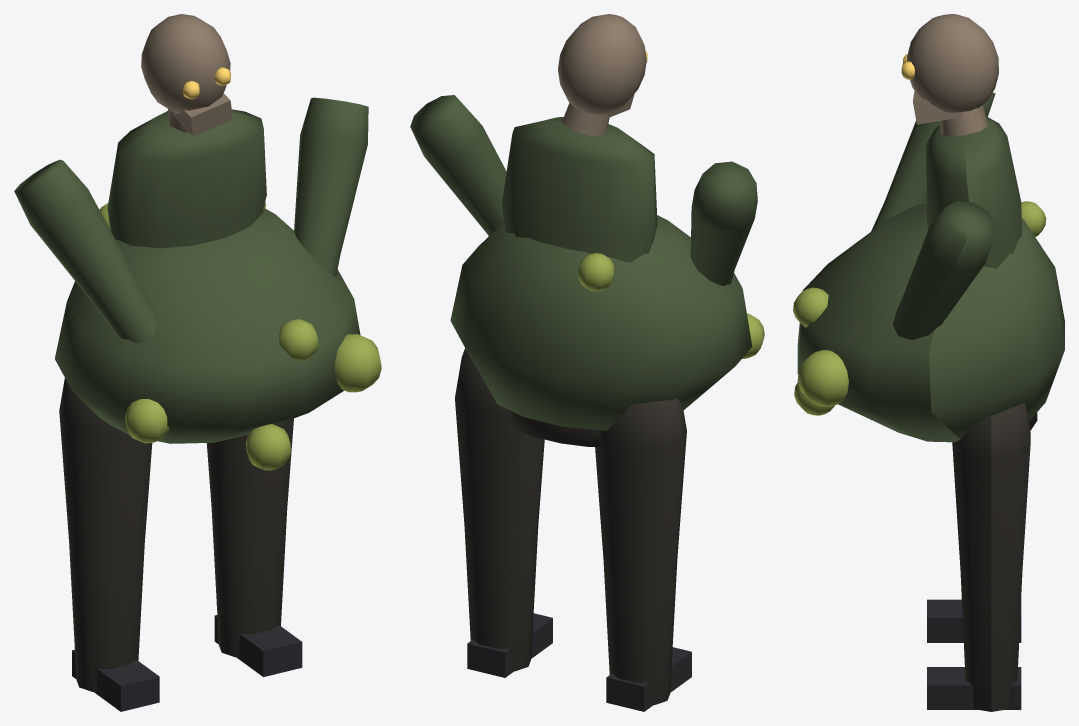
Rendered from husk_bloater.glb.
3 views of the same model, side by side, from view 1: azimuth 30°, elevation 25°; view 2: azimuth 150°, elevation 25°; view 3: azimuth 270°, elevation 25° (orthographic). The views are drawn at different scales.
Visible parts, largest first — view 1: husk_bloater; view 2: husk_bloater; view 3: husk_bloater.
Boxes of the visible parts, box(x1,y1,x2,y2) form: husk_bloater: box(14, 14, 381, 711); husk_bloater: box(410, 14, 764, 711); husk_bloater: box(793, 14, 1064, 711).
Size of what is drawn, in the model's own units: 1.01 by 1.85 by 0.7105.
